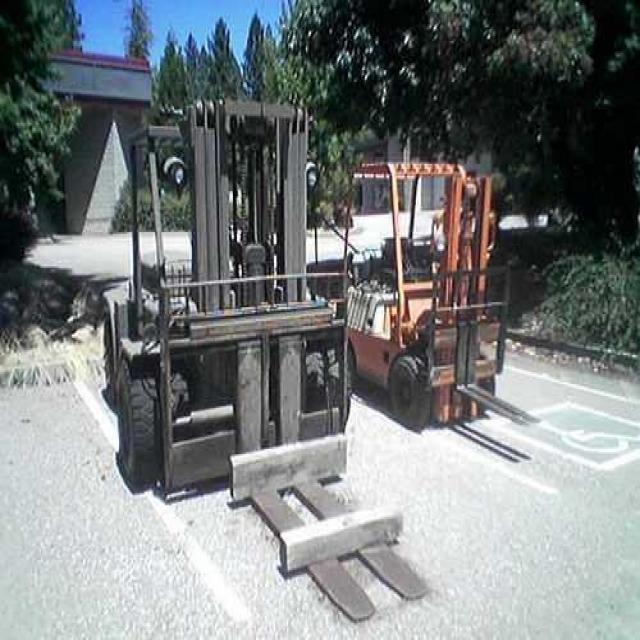Chariot elevateur: (102, 98, 432, 622), (336, 162, 540, 428)
